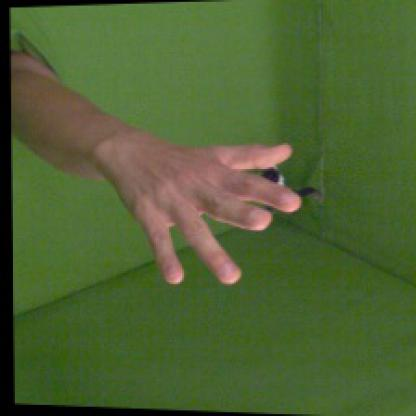Hand: (102, 142, 303, 285)
